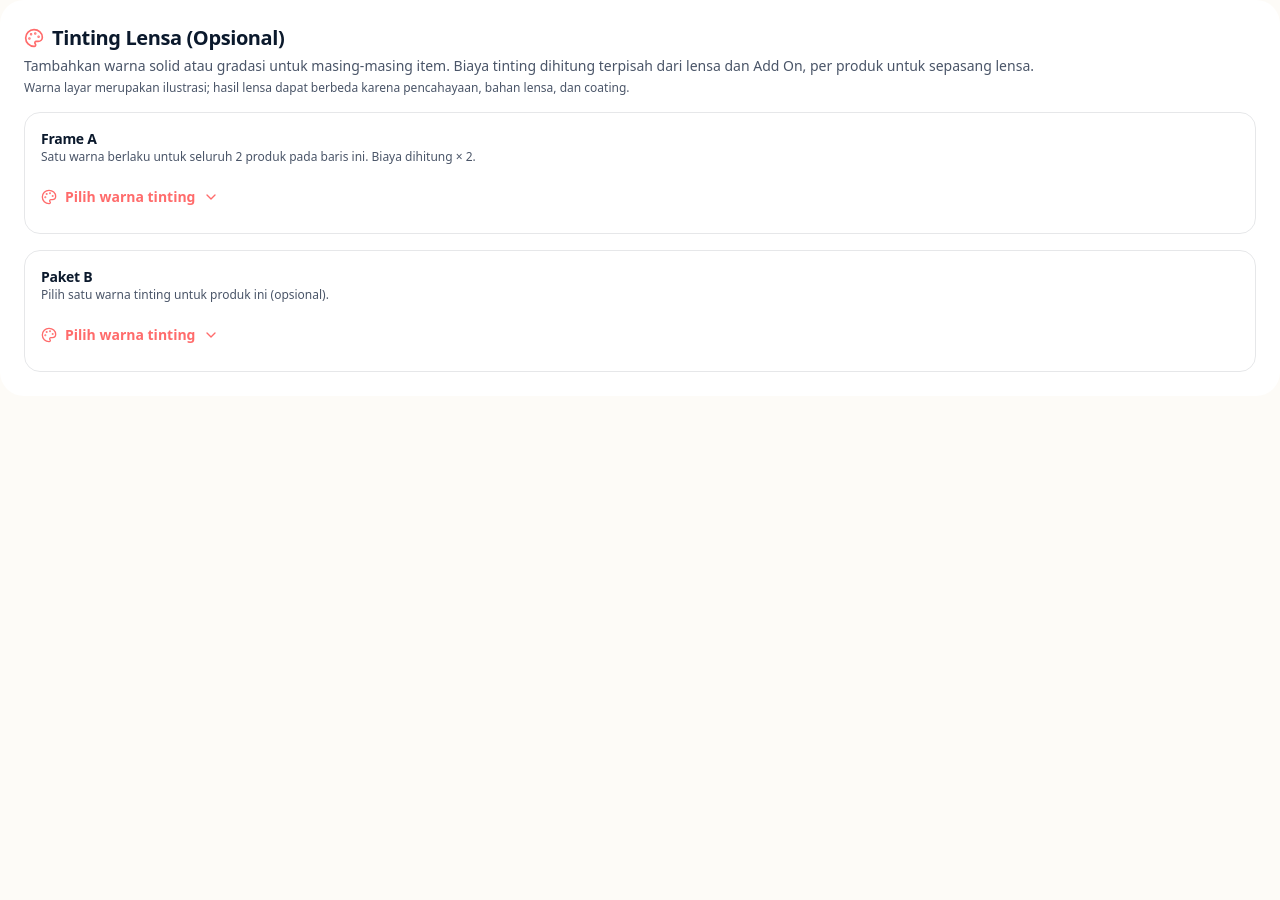
Test: loads color cards on demand and saves one choice per line, including a quantity of two
Later steps or results of the test are not shown.
Expected: the element with test id "tinting-a" shows "seluruh 2 produk", 41,148 -> 476,165
Click the button with test id "choose-tinting-a" at [130, 197], box 41,177 -> 220,217
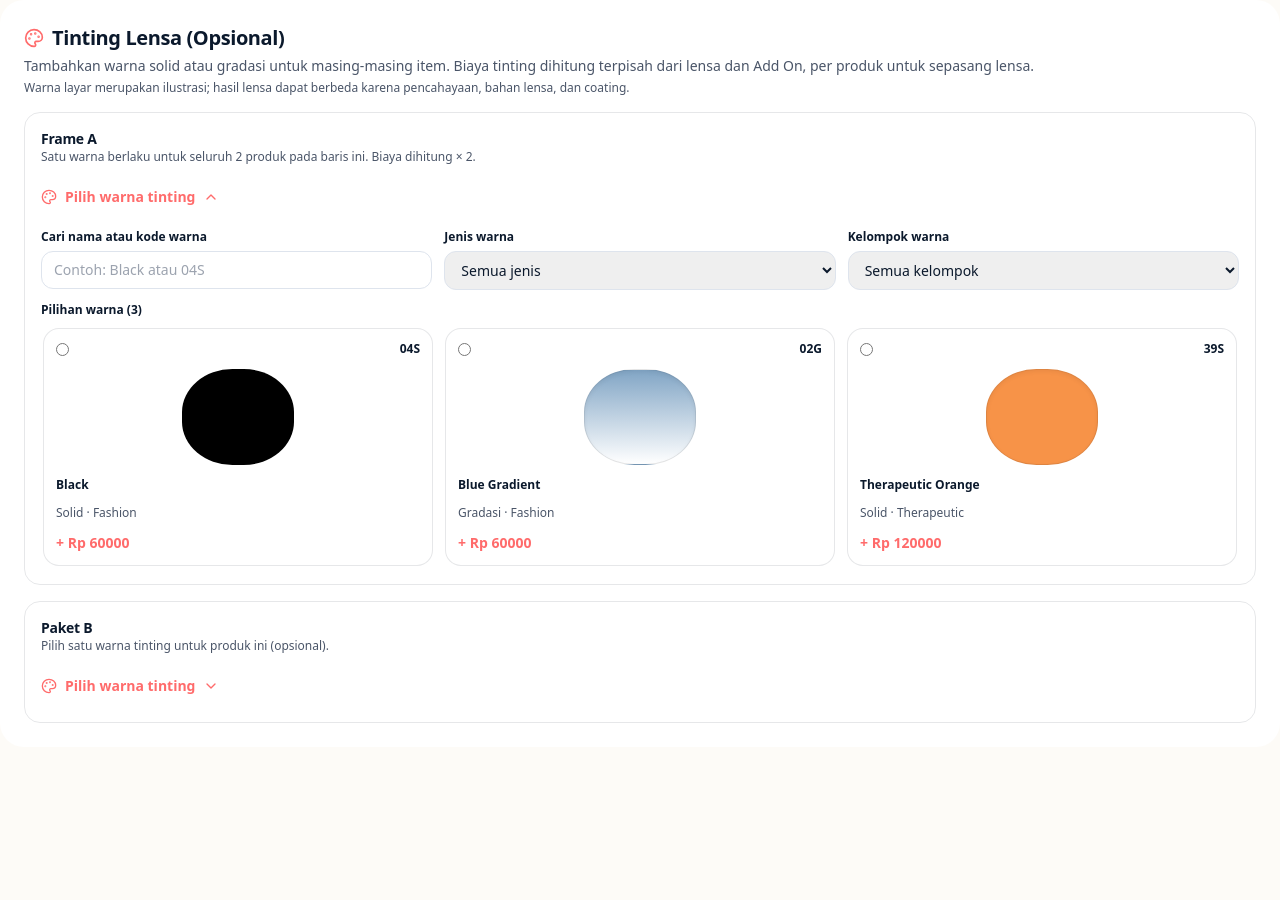
Now the number of radio buttons is 3
Click the radio button labelled "04S Black Solid · Fashion + Rp 60000" at [62, 349], box 56,342 -> 69,356
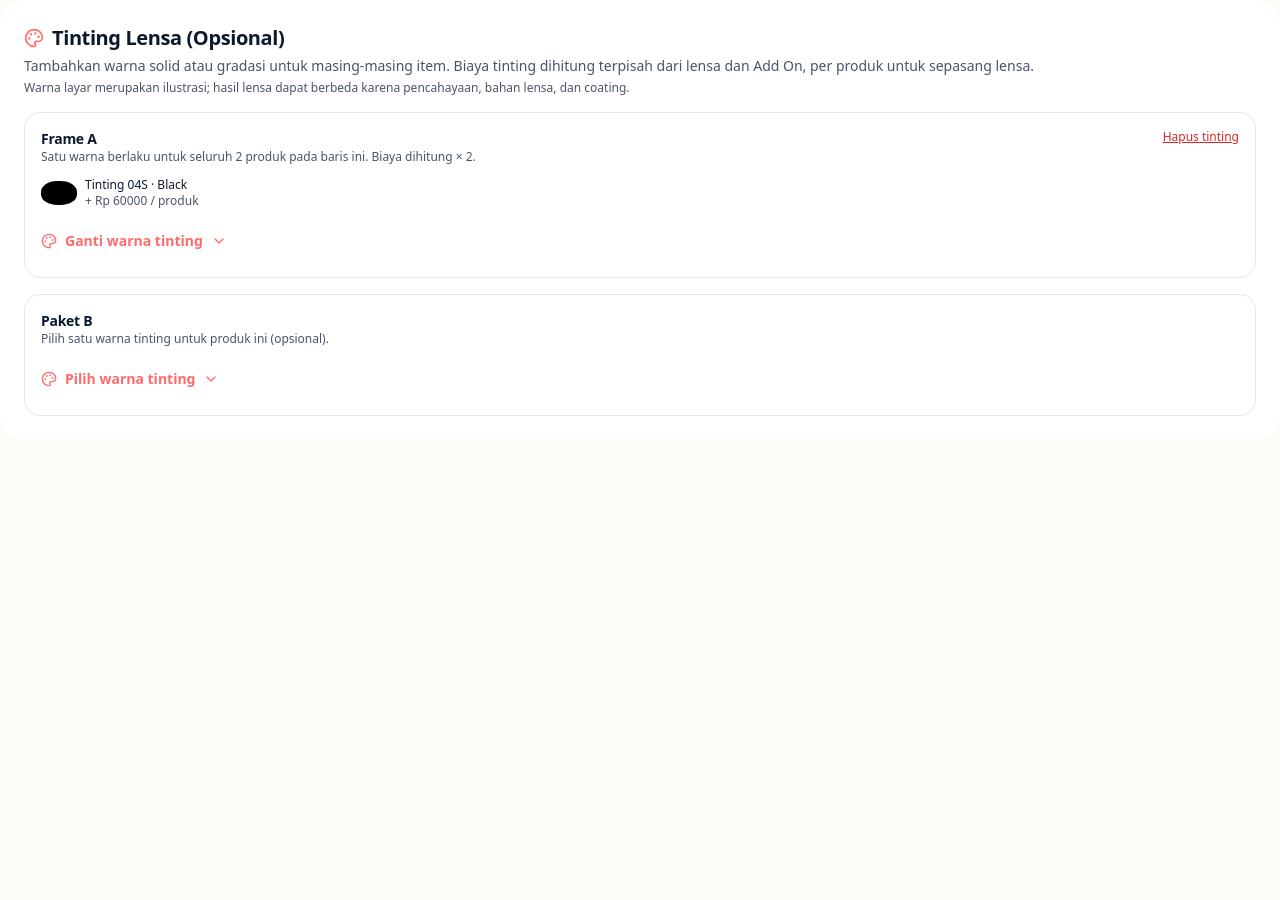
Now the element with test id "tinting-a" shows "04S", box 128,176 -> 148,193
